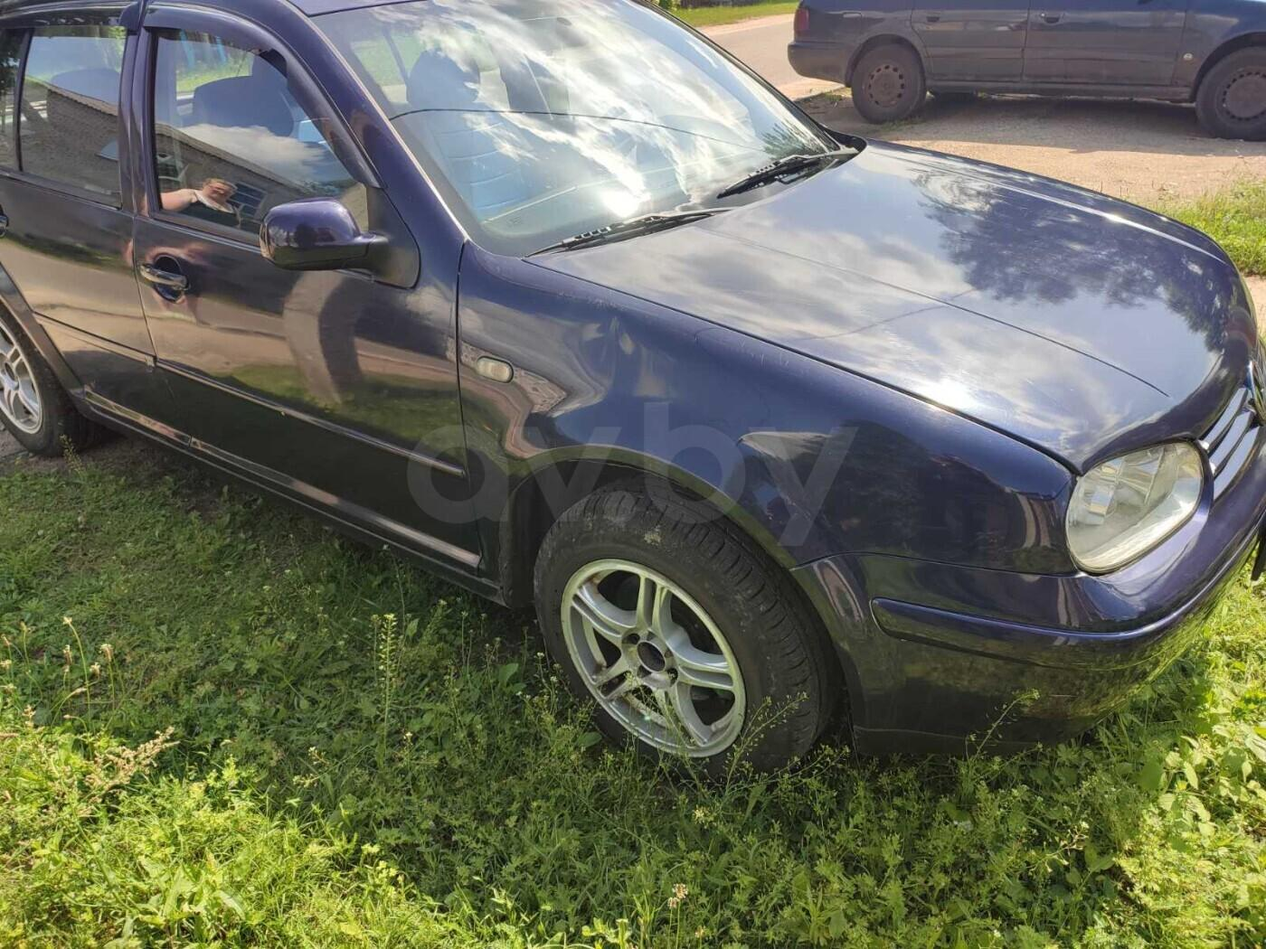Golf_1997-2006: (0, 0, 1266, 782)
